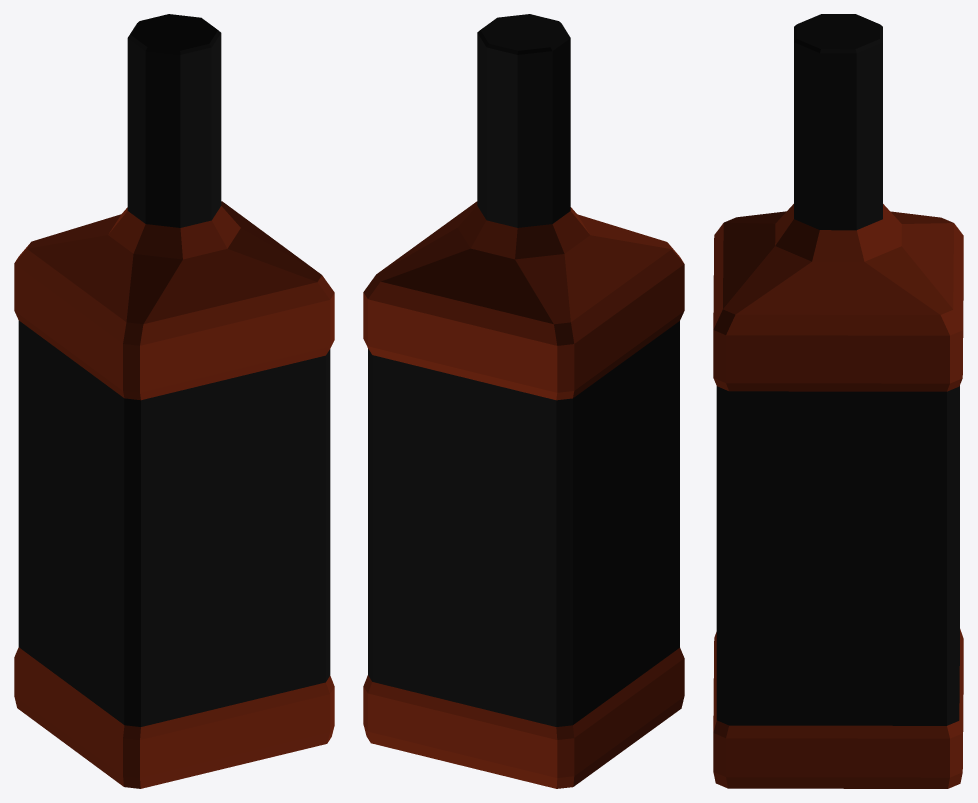
The model's file is Wine 5.fbx.
3 renders of one model, left to right at view 1: azimuth 30°, elevation 25°; view 2: azimuth 150°, elevation 25°; view 3: azimuth 270°, elevation 25°, orthographic. The views are drawn at different scales.
Visible parts, largest first — view 1: Node 0; view 2: Node 0; view 3: Node 0.
Boxes of the visible parts, x1=… form: Node 0: x1=14, y1=14, x2=334, y2=788; Node 0: x1=363, y1=14, x2=684, y2=788; Node 0: x1=713, y1=14, x2=963, y2=788.
Size of the model in its own units: 0.0749 by 0.2349 by 0.0749.
